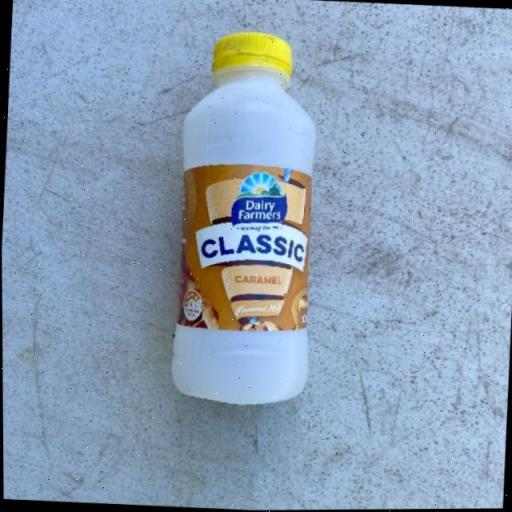plastic: (165, 26, 326, 408)
